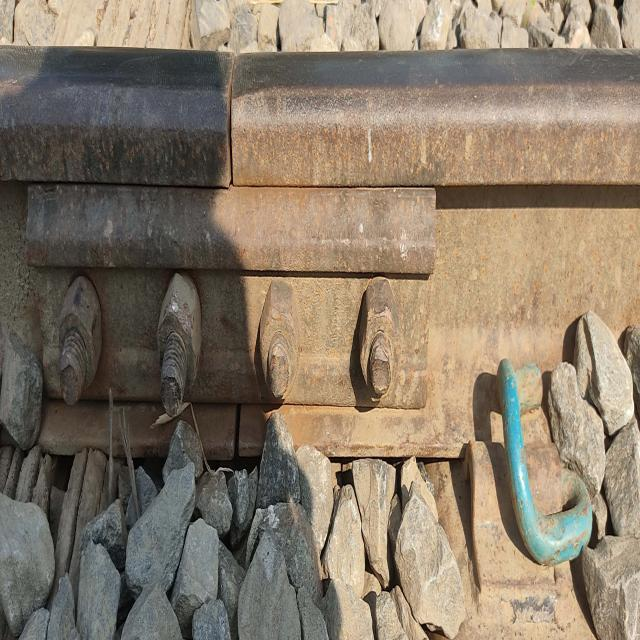Good Fasteners: (466, 359, 592, 589)
Good Joint: (25, 183, 435, 419)
